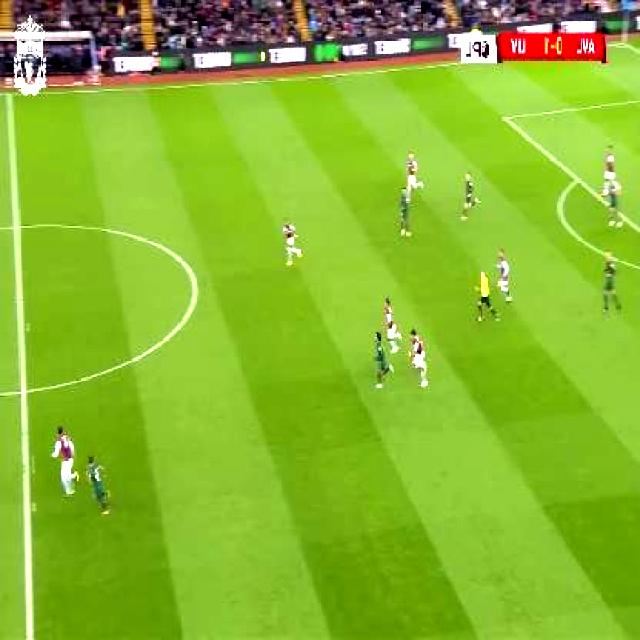bigarea_top_inner: (498, 108, 514, 128)
corner: (612, 35, 634, 51)
halfcircle_bottom: (11, 369, 37, 411)
halfcircle_top: (6, 211, 28, 240)
midline_top_intersection: (0, 84, 18, 107)
top_arc_area_intersection: (572, 169, 586, 188)
